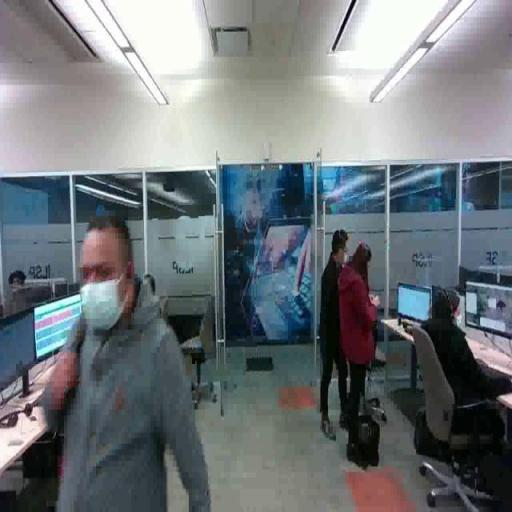person: (47, 205, 222, 512), (320, 229, 361, 442), (342, 241, 383, 444)
